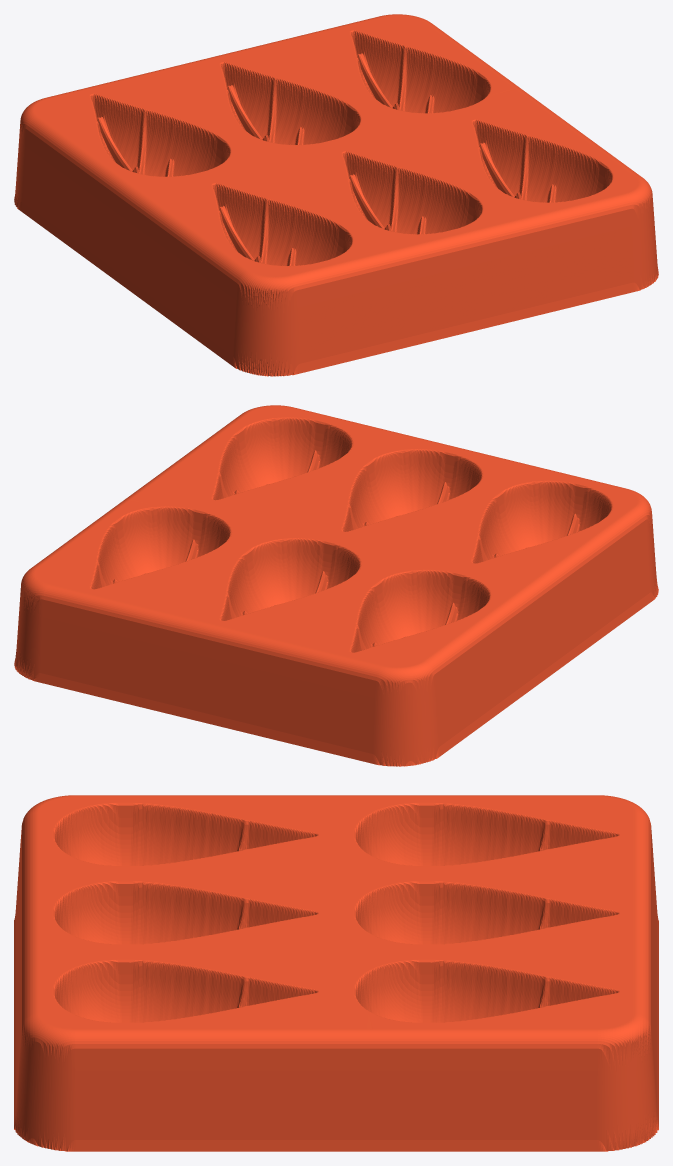
The model's file is mold.glb.
3 renders of one model, top to bottom at view 1: azimuth 30°, elevation 25°; view 2: azimuth 150°, elevation 25°; view 3: azimuth 270°, elevation 25°, orthographic. The views are drawn at different scales.
Parts seen in each view (by area): view 1: geometry_0; view 2: geometry_0; view 3: geometry_0.
Boxes of the visible parts, x1,y1,x2,y2 form: geometry_0: (14,14,658,376); geometry_0: (14,405,658,766); geometry_0: (14,795,658,1151).
Size of the model in its own units: 0.088 by 0.0182 by 0.0947.
